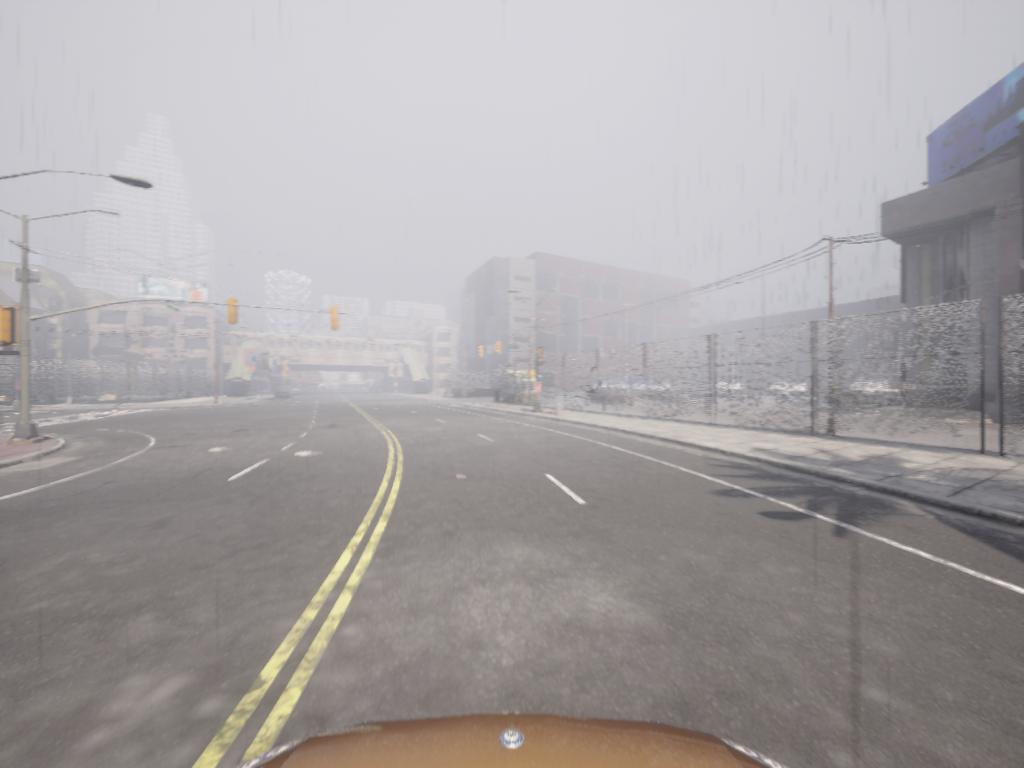traffic_light: (3, 306, 21, 345), (225, 300, 239, 326), (329, 307, 341, 333), (539, 349, 547, 370), (497, 342, 506, 358), (478, 346, 486, 362)
